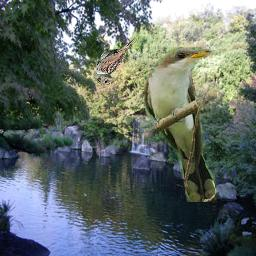Cuckoo: (145, 48, 218, 203)
Sparrow: (93, 34, 137, 84)
